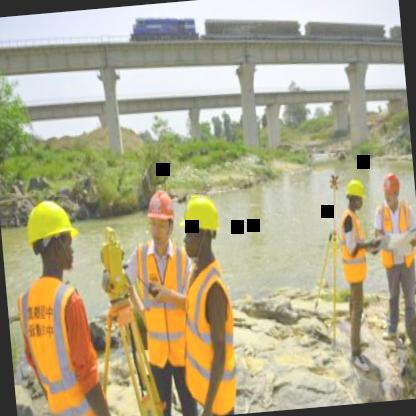helmet: (18, 192, 85, 283), (176, 192, 224, 262), (143, 186, 181, 250), (378, 170, 403, 214), (342, 178, 369, 214)
